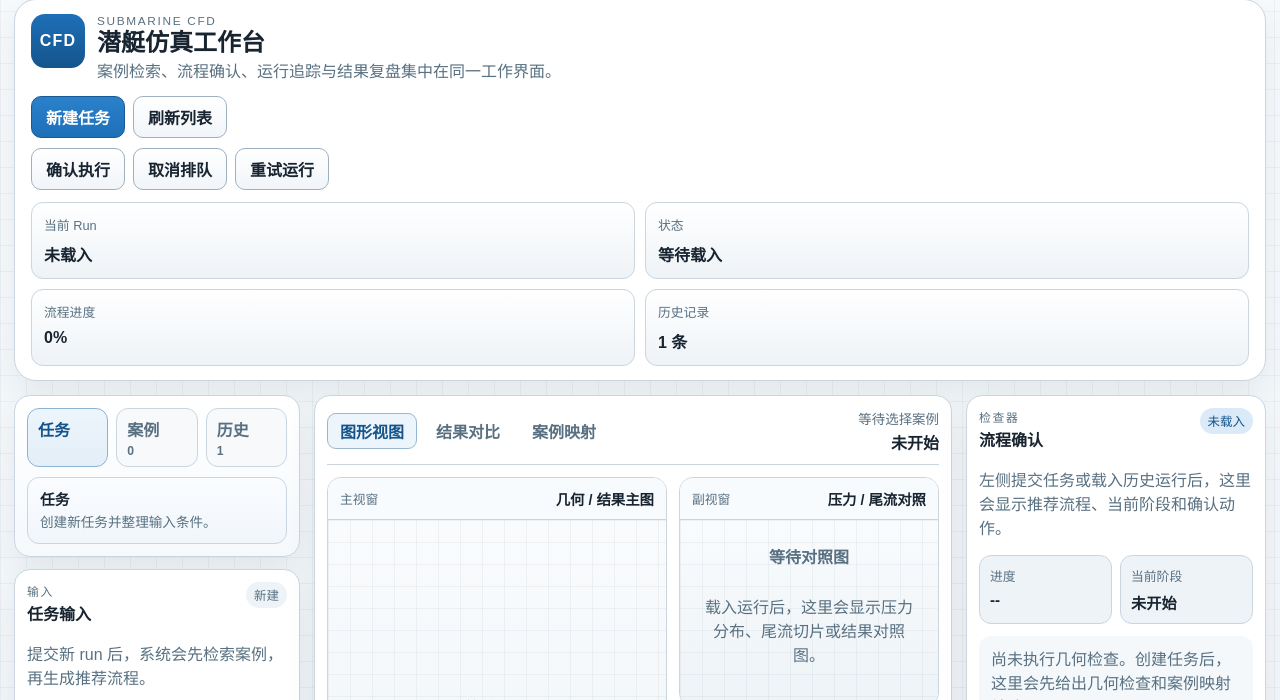
it: App › switches the left workspace to candidate cases when a matched run is loaded
expect the heading "任务输入" is shown: met, box [27,601,91,625]
expect the heading "候选案例" is not shown: met
Click the tab "历史 1" at (246, 438), box [206,408,287,467]
(page scrolled)
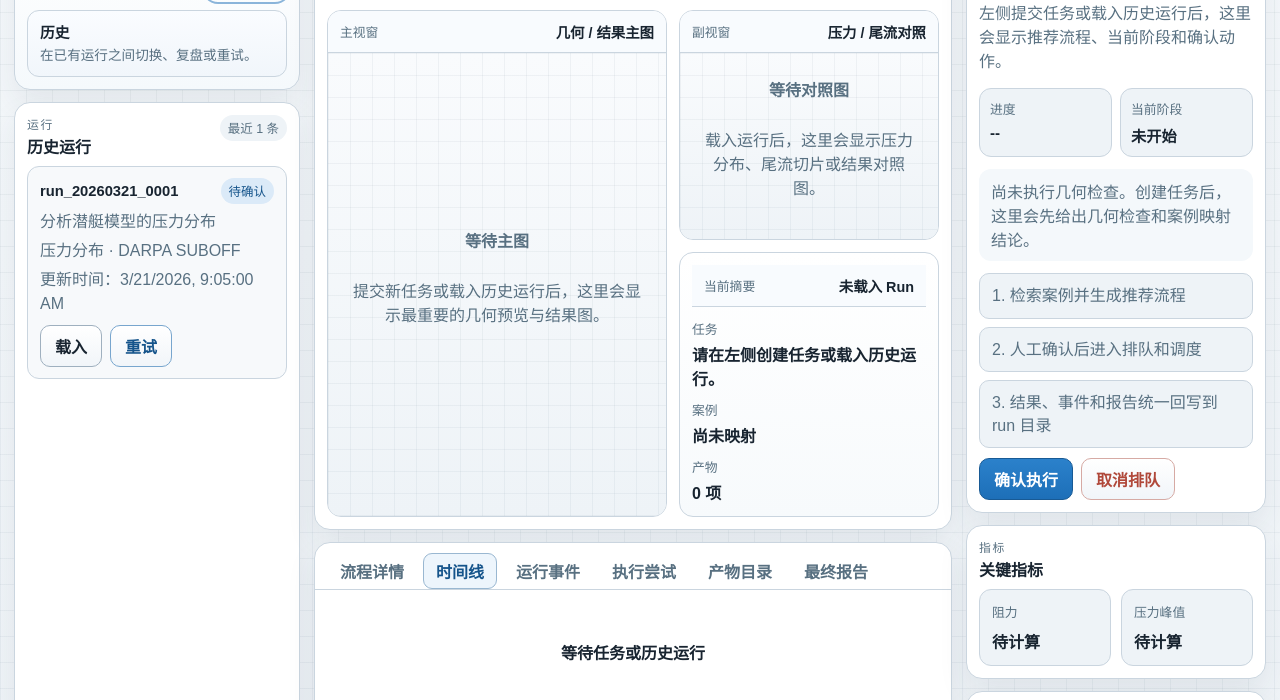
Click the button "载入" at (71, 346), box [40,325,102,367]
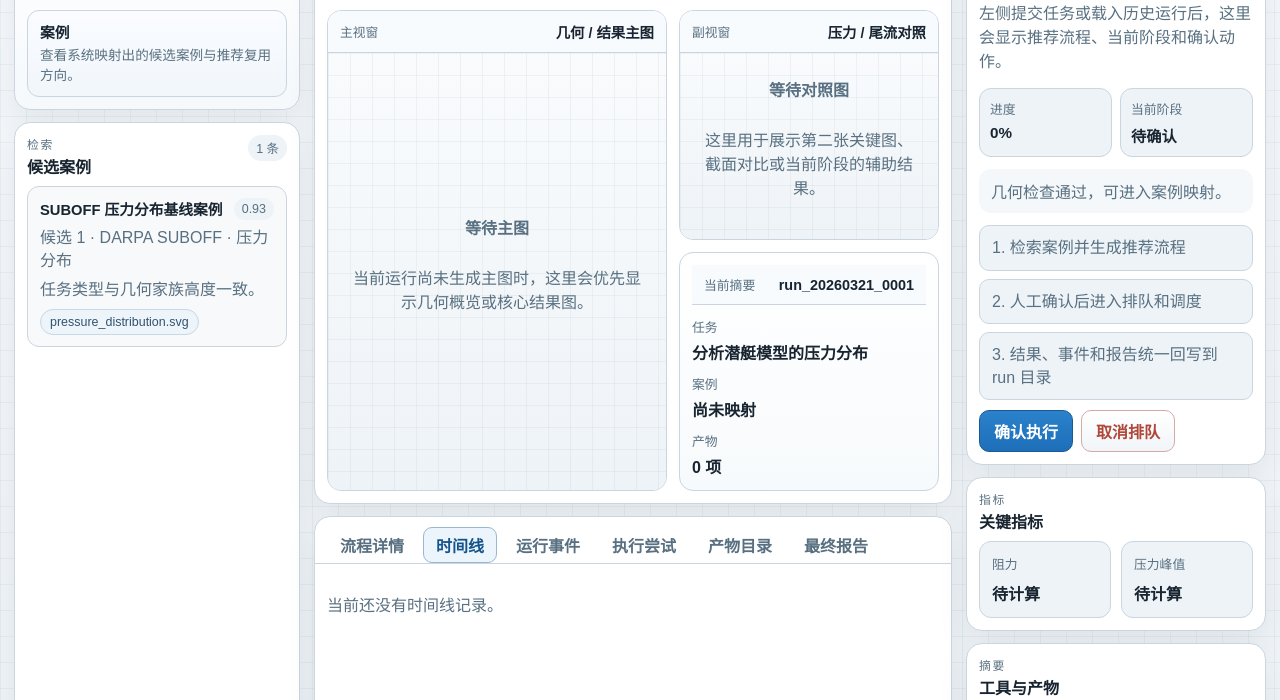
expect the heading "任务输入" is not shown: met
expect the heading "候选案例" is shown: met, box [27,154,91,178]
